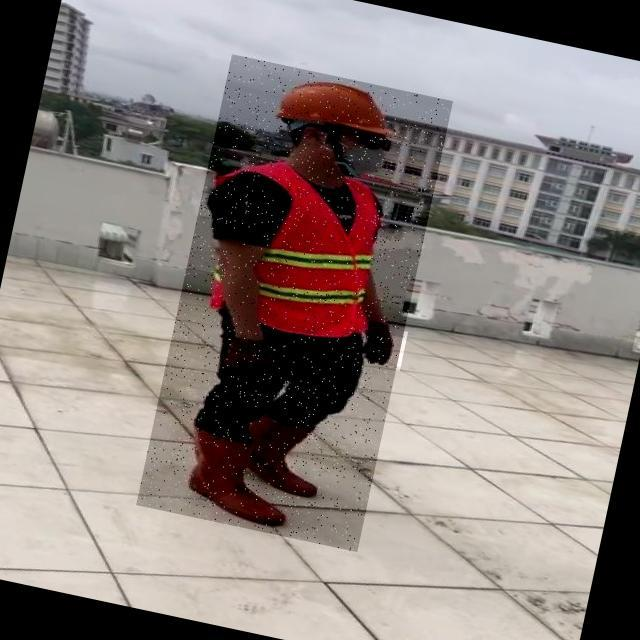Gloves: (220, 330, 285, 387), (357, 323, 408, 371)
Helmet: (271, 69, 408, 143)
Human: (136, 54, 453, 552)
Safety Boot: (172, 422, 299, 529), (240, 414, 335, 501)
Safety Vest: (194, 157, 393, 343)
